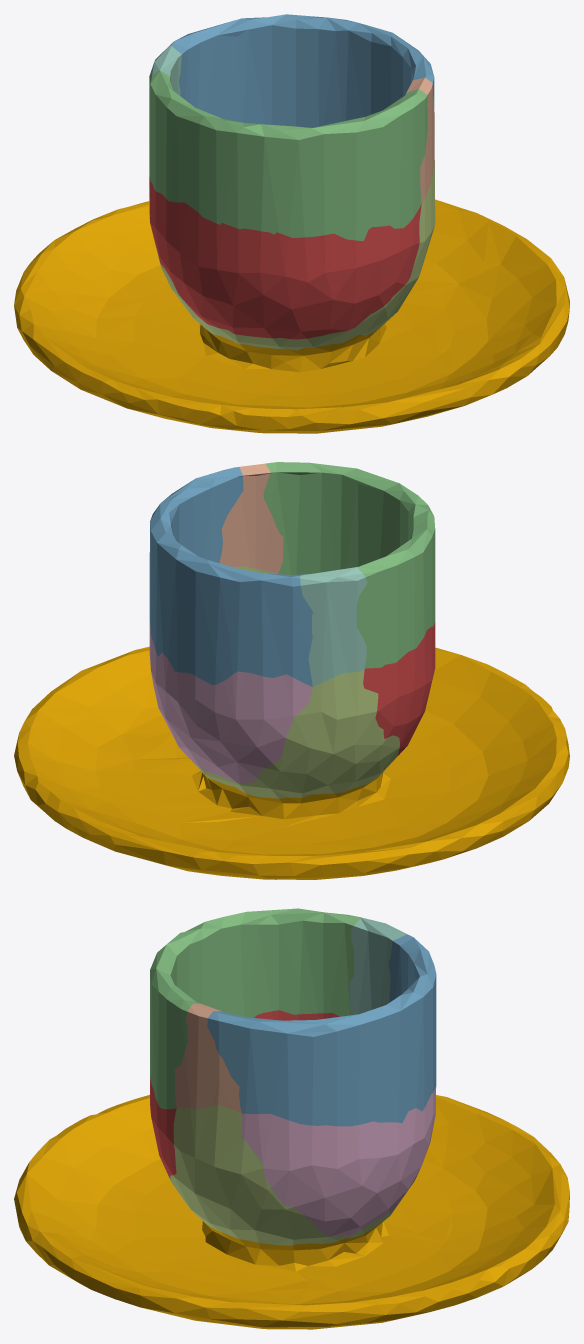
File: fractured_36_8pcs.glb
3 views of the same model, one above another, from view 1: azimuth 30°, elevation 25°; view 2: azimuth 150°, elevation 25°; view 3: azimuth 270°, elevation 25° (orthographic).
Parts seen in each view (by area): view 1: piece_0.obj, piece_3.obj, piece_1.obj, piece_2.obj, piece_5.obj, piece_7.obj, piece_4.obj; view 2: piece_0.obj, piece_2.obj, piece_3.obj, piece_6.obj, piece_5.obj, piece_4.obj, piece_1.obj, piece_7.obj; view 3: piece_0.obj, piece_2.obj, piece_3.obj, piece_6.obj, piece_5.obj, piece_7.obj, piece_4.obj, piece_1.obj.
Boxes of the visible parts, left/top/right/bottom form: piece_0.obj: left=14, top=199, right=569, bottom=433; piece_3.obj: left=149, top=70, right=427, bottom=241; piece_1.obj: left=149, top=175, right=421, bottom=339; piece_2.obj: left=169, top=14, right=434, bottom=127; piece_5.obj: left=149, top=161, right=435, bottom=350; piece_7.obj: left=406, top=77, right=434, bottom=202; piece_4.obj: left=149, top=45, right=181, bottom=169; piece_0.obj: left=14, top=646, right=569, bottom=879; piece_2.obj: left=149, top=467, right=312, bottom=686; piece_3.obj: left=263, top=462, right=435, bottom=668; piece_6.obj: left=149, top=621, right=312, bottom=783; piece_5.obj: left=192, top=566, right=399, bottom=798; piece_4.obj: left=300, top=567, right=367, bottom=686; piece_1.obj: left=363, top=622, right=435, bottom=755; piece_7.obj: left=219, top=463, right=283, bottom=573; piece_0.obj: left=14, top=1095, right=569, bottom=1329; piece_2.obj: left=207, top=934, right=436, bottom=1126; piece_3.obj: left=150, top=908, right=360, bottom=1109; piece_6.obj: left=241, top=1085, right=436, bottom=1236; piece_5.obj: left=169, top=1105, right=393, bottom=1245; piece_7.obj: left=175, top=1003, right=241, bottom=1113; piece_4.obj: left=349, top=917, right=407, bottom=1015; piece_1.obj: left=150, top=1010, right=339, bottom=1177.
Bounding box in the file's own units: 1 × 0.5655 × 0.9972.
